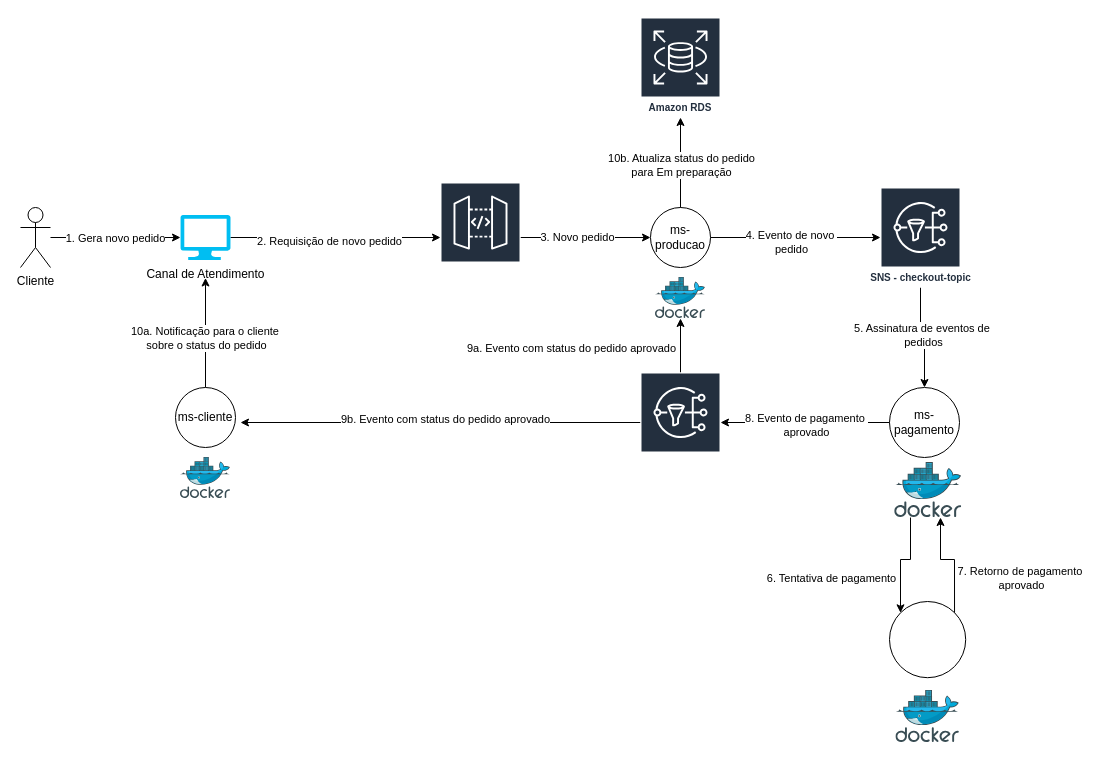
Some shapes in this 1102 by 760 pixel diagram are drawn without their labels. Here are the shapes that lost their labels. From the top down, the centre of each, then its label:
At pixel 480 237: "Amazon API Gateway".
At pixel 680 422: "SNS - payment-status -topic".
At pixel 927 639: "gateway-de-pagamentos".
